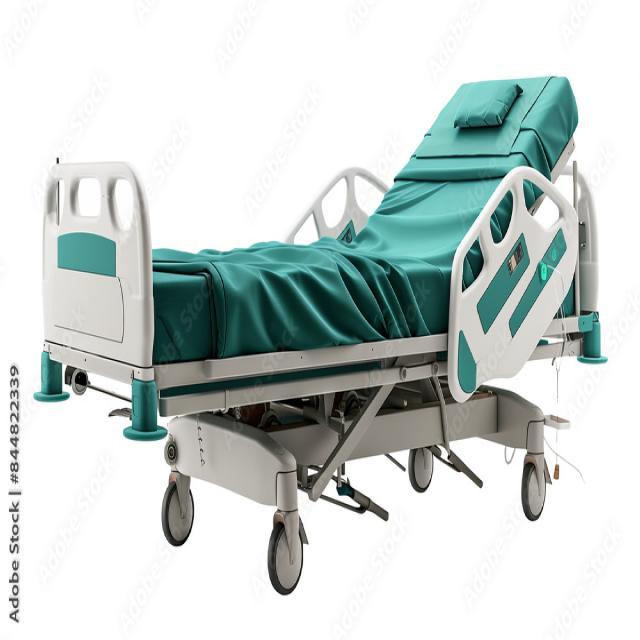bed: (34, 73, 606, 594)
